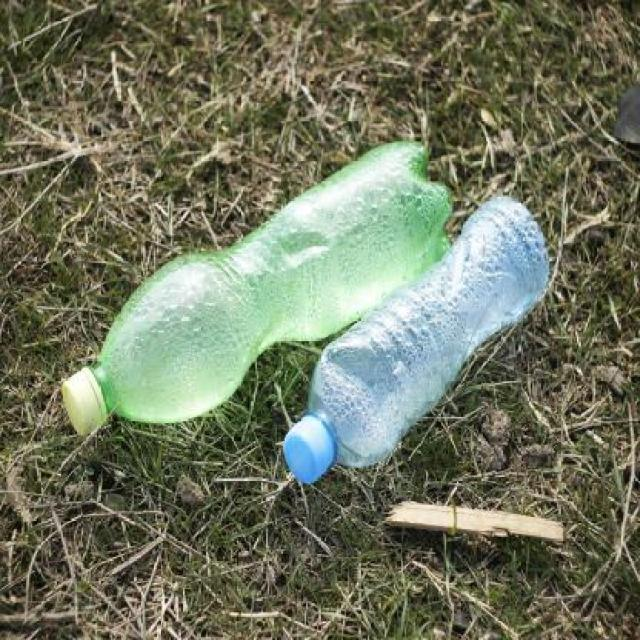bottle: (29, 137, 454, 443), (276, 188, 556, 555)
